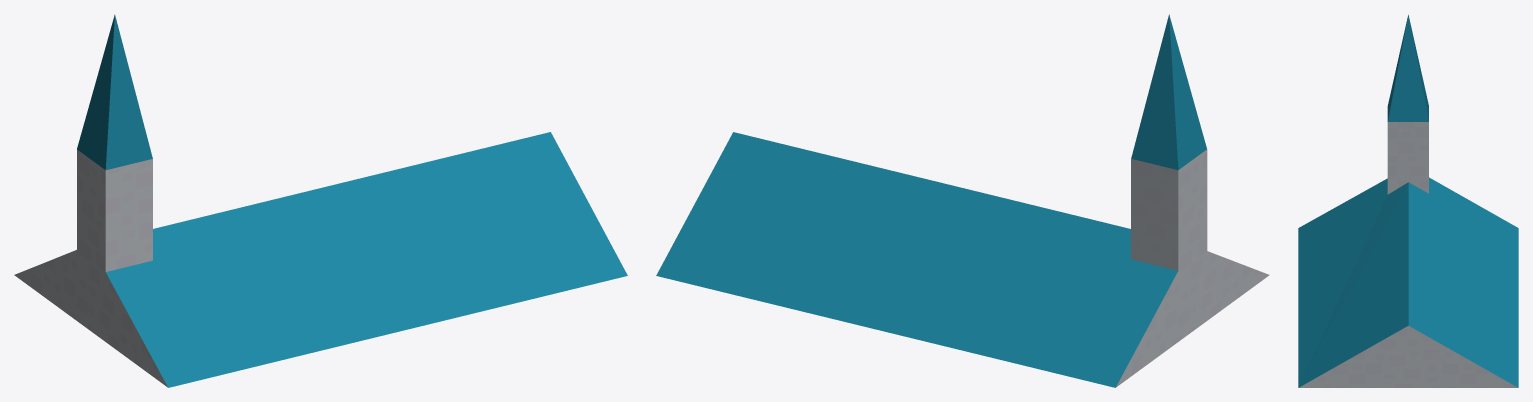
File: church_s486-511_floor1.glb
3 renders of one model, left to right at view 1: azimuth 30°, elevation 25°; view 2: azimuth 150°, elevation 25°; view 3: azimuth 270°, elevation 25°, orthographic. The views are drawn at different scales.
Visible parts, largest first — view 1: church_s486-511_floor1; view 2: church_s486-511_floor1; view 3: church_s486-511_floor1.
Boxes of the visible parts, box(x1,y1,x2,y2) form: church_s486-511_floor1: box(14, 14, 627, 387); church_s486-511_floor1: box(656, 14, 1269, 387); church_s486-511_floor1: box(1298, 14, 1518, 387).
Size of the model in its own units: 11 by 7.13 by 6.4.
2 materials, 1 textured.
